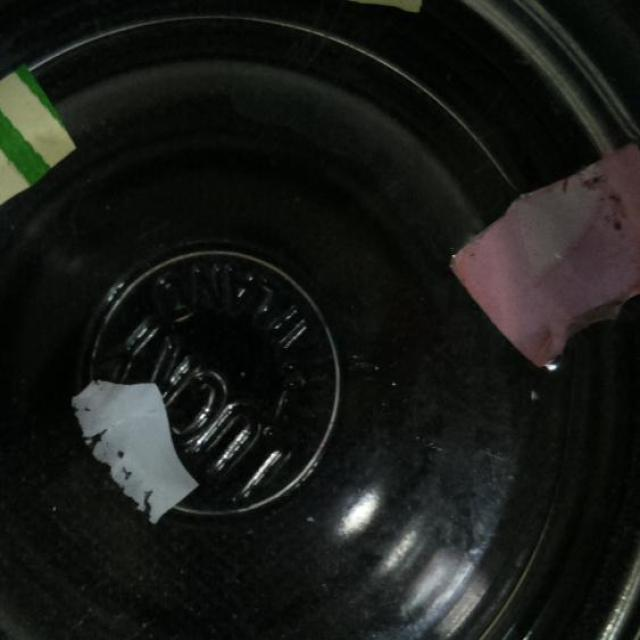fiber: (450, 142, 640, 368), (70, 378, 201, 523), (0, 63, 82, 205)
